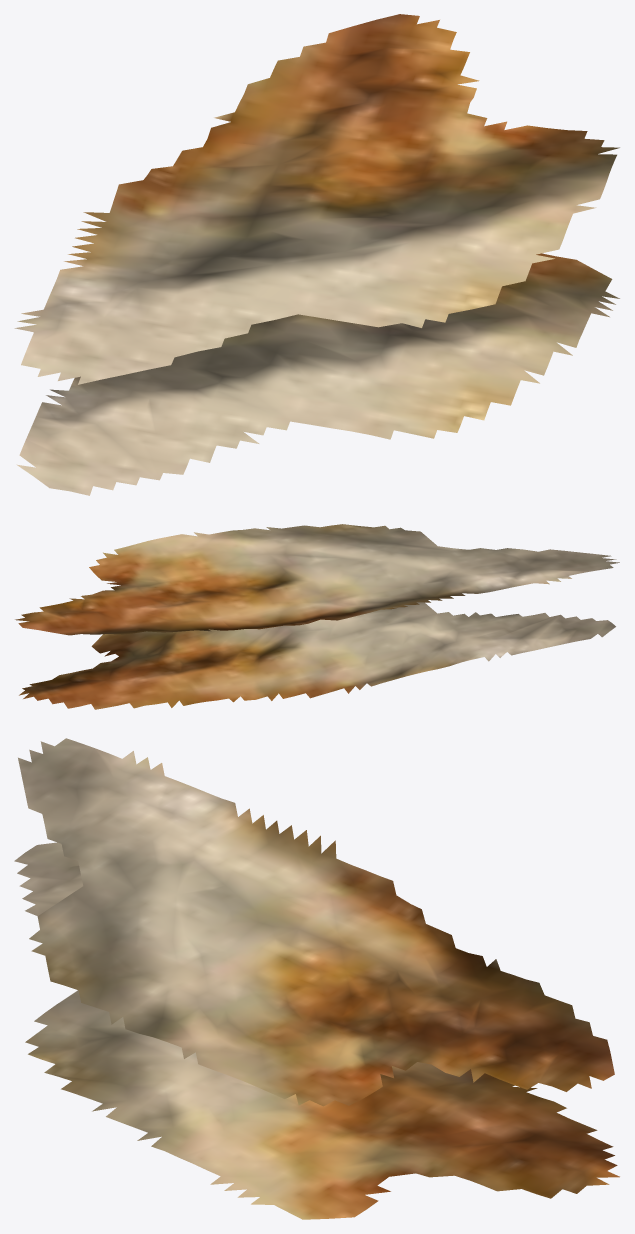
The model's file is beef-3.glb.
3 renders of one model, top to bottom at view 1: azimuth 30°, elevation 25°; view 2: azimuth 150°, elevation 25°; view 3: azimuth 270°, elevation 25°, orthographic. The views are drawn at different scales.
Visible parts, largest first — view 1: fetta di pollo_Default OBJ_0; view 2: fetta di pollo_Default OBJ_0; view 3: fetta di pollo_Default OBJ_0.
Part boxes in pixels (x1=…): fetta di pollo_Default OBJ_0: x1=14, y1=14, x2=619, y2=495; fetta di pollo_Default OBJ_0: x1=15, y1=524, x2=619, y2=709; fetta di pollo_Default OBJ_0: x1=14, y1=738, x2=619, y2=1219.
Bounding box in the file's own units: 0.04 × 0.00994 × 0.0324.
Materials: 1 (1 with a texture image).
